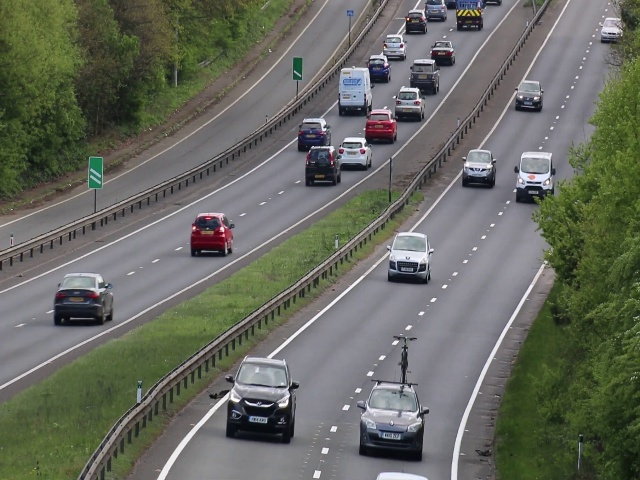car: (222, 354, 297, 443), (359, 383, 424, 462), (51, 271, 115, 323), (386, 230, 431, 287), (188, 211, 235, 258), (513, 151, 553, 199), (338, 65, 373, 113), (304, 143, 342, 187), (461, 147, 493, 184), (411, 57, 440, 95), (364, 108, 398, 140), (339, 135, 371, 169), (513, 78, 544, 112), (297, 116, 330, 146), (396, 85, 423, 118), (384, 31, 408, 57), (368, 54, 391, 81), (432, 39, 456, 64), (404, 9, 427, 33), (601, 14, 618, 42)
